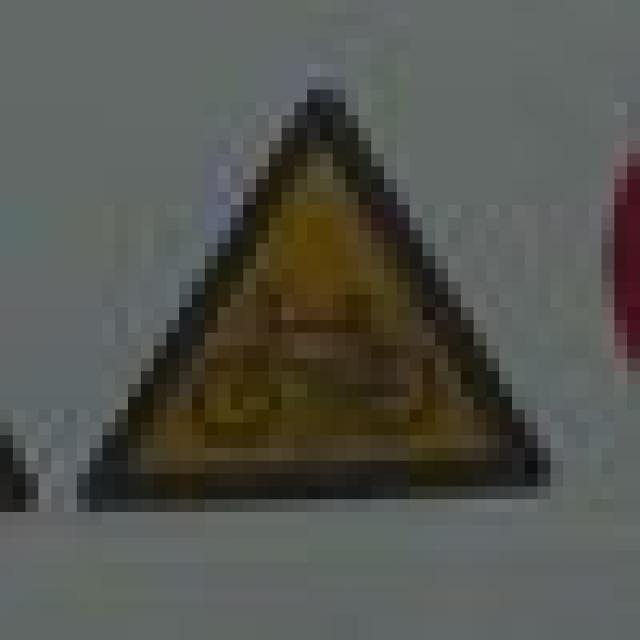CYCLE_CROSSING: (51, 64, 538, 499)
